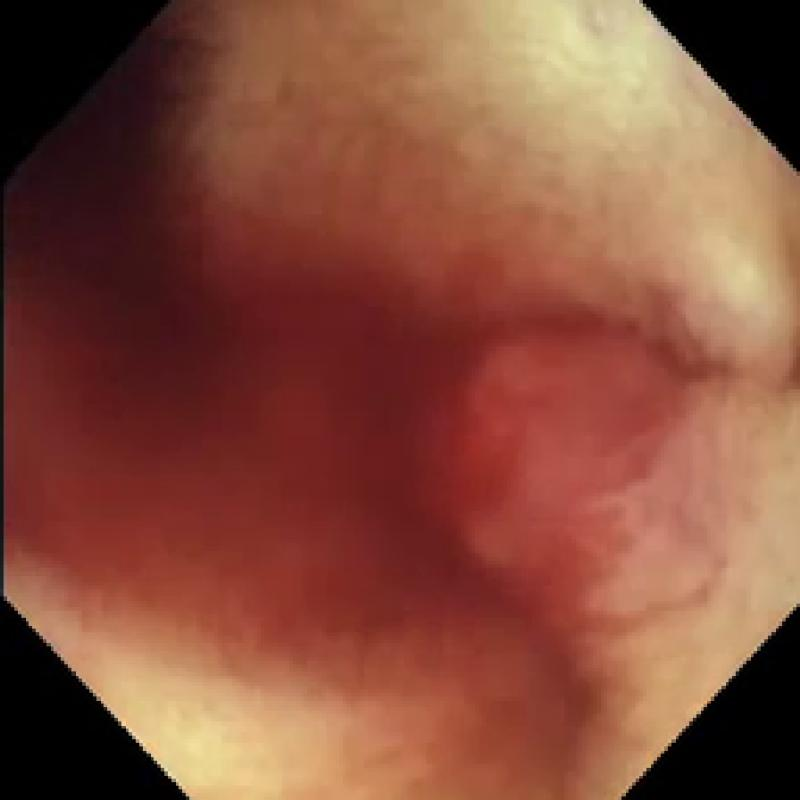bleeding: (0, 28, 739, 775)
